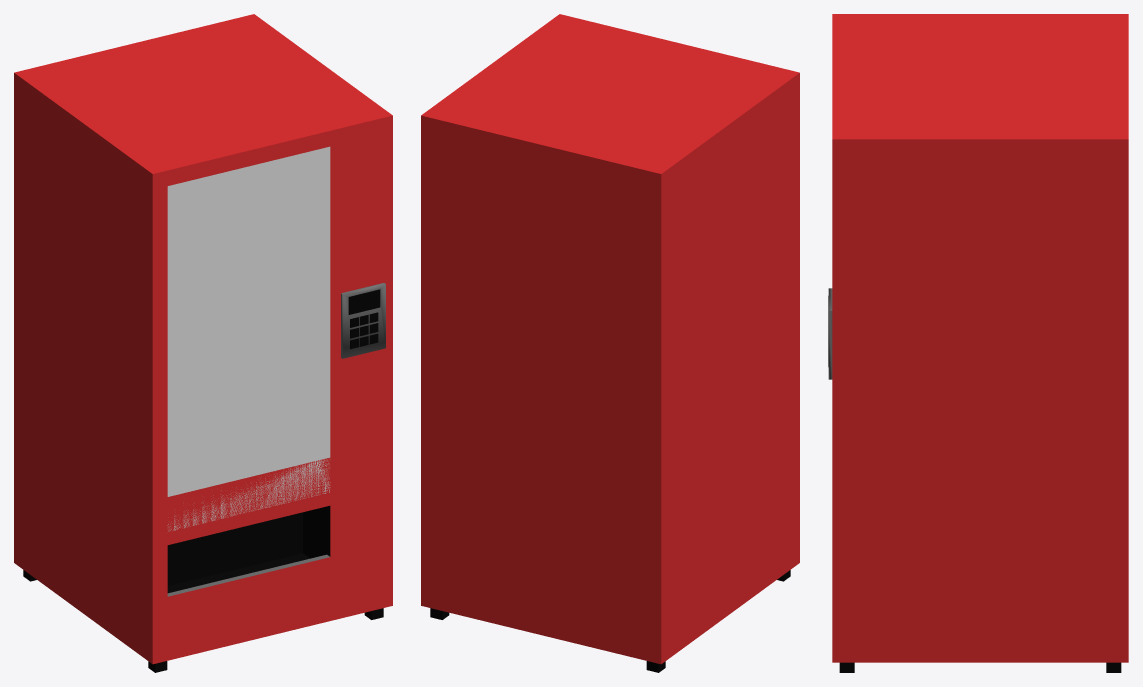
File: machine 1.fbx
3 renders of one model, left to right at view 1: azimuth 30°, elevation 25°; view 2: azimuth 150°, elevation 25°; view 3: azimuth 270°, elevation 25°, orthographic. The views are drawn at different scales.
Visible parts, largest first — view 1: Cube, Cube.008, Cube.009, Cube.010; view 2: Cube; view 3: Cube, Cube.009.
Boxes of the visible parts, <box> form: Cube: <box>14,14,392,664</box>; Cube.008: <box>167,146,330,531</box>; Cube.009: <box>341,283,385,358</box>; Cube.010: <box>348,289,380,314</box>; Cube: <box>421,14,799,664</box>; Cube: <box>832,14,1128,662</box>; Cube.009: <box>828,288,832,379</box>.
Bounding box in the file's own units: 400 × 800 × 406.
